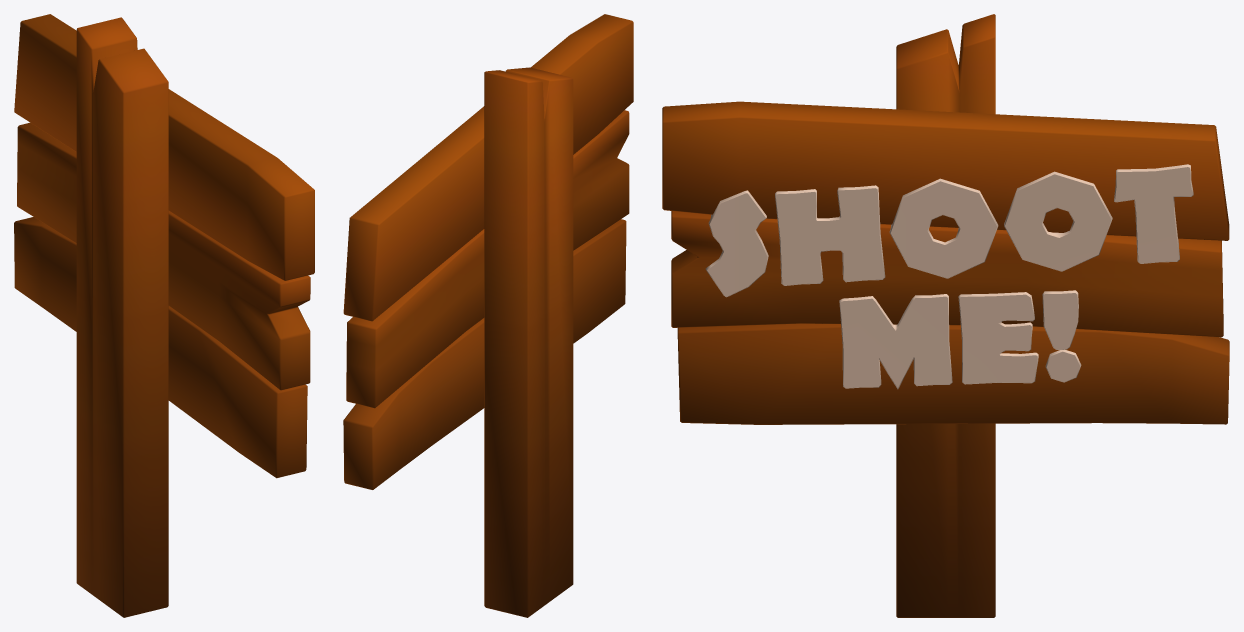
The model's file is ShootMeSign.fbx.
3 renders of one model, left to right at view 1: azimuth 30°, elevation 25°; view 2: azimuth 150°, elevation 25°; view 3: azimuth 270°, elevation 25°, orthographic. The views are drawn at different scales.
Parts seen in each view (by area): view 1: Text; view 2: Text; view 3: Text, Text.001.
Boxes of the visible parts, left/top/right/bottom form: Text: left=14, top=14, right=314, bottom=617; Text: left=343, top=14, right=633, bottom=617; Text: left=662, top=14, right=1229, bottom=617; Text.001: left=705, top=164, right=1193, bottom=389.
Size of the model in its own units: 64.94 by 410 by 363.
